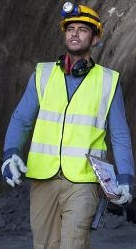gloves: (1, 152, 27, 186), (115, 167, 133, 204)
hard-hat: (58, 2, 102, 38)
vest: (23, 62, 110, 179)
